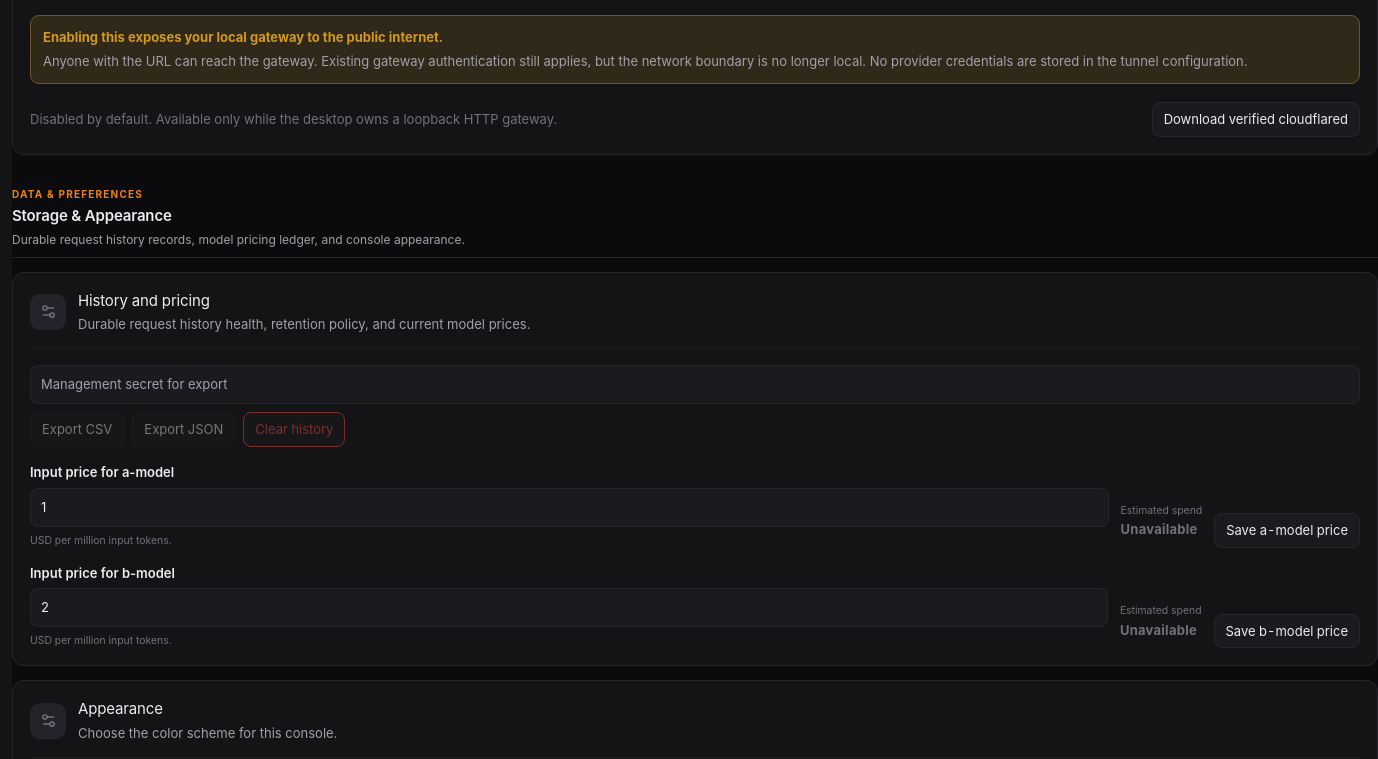
Test case: history export authorization (item 6, C1) › requires an inline secret, passes it to exportHistory, and shows failures
(page scrolled)
expect the button "Export CSV" is disabled: met, box [30,412,124,447]
expect the button "Export JSON" is disabled: met, box [132,412,235,447]
Type "s3cret" into the password field named "Export authorization secret" at (695, 385), box [30,365,1360,404]
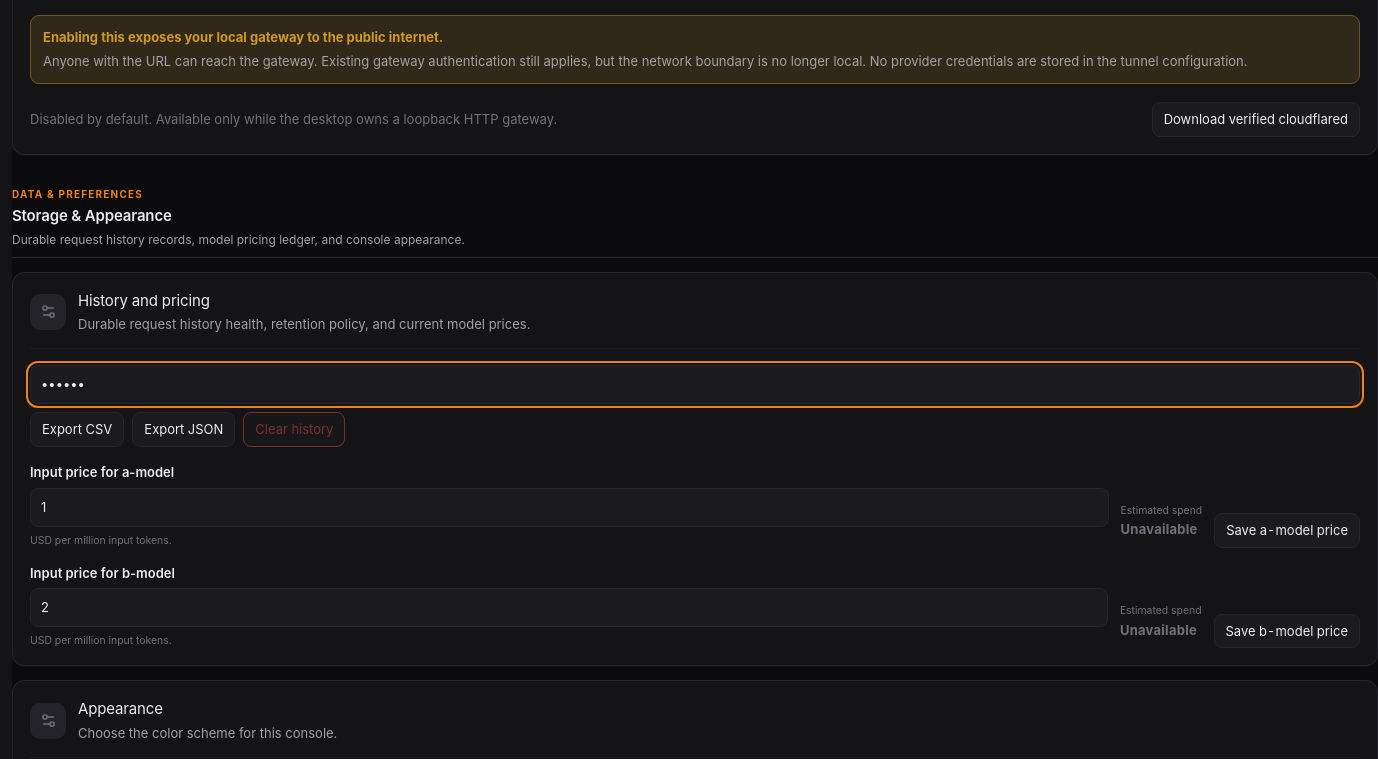
expect the button "Export CSV" is enabled: met
Click the button "Export CSV" at (77, 429), box [30,412,124,447]
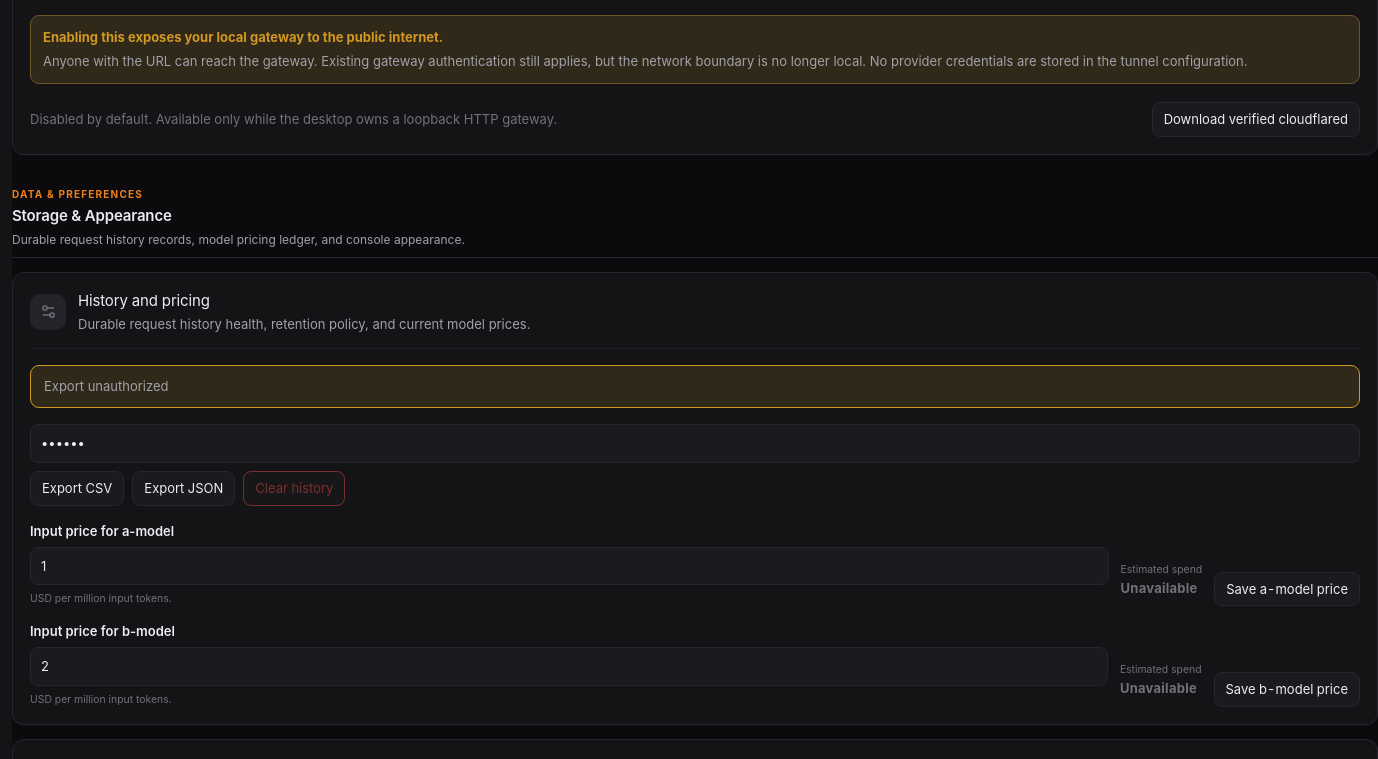
expect the text "Export unauthorized" is shown: met, box [30,365,1360,408]
